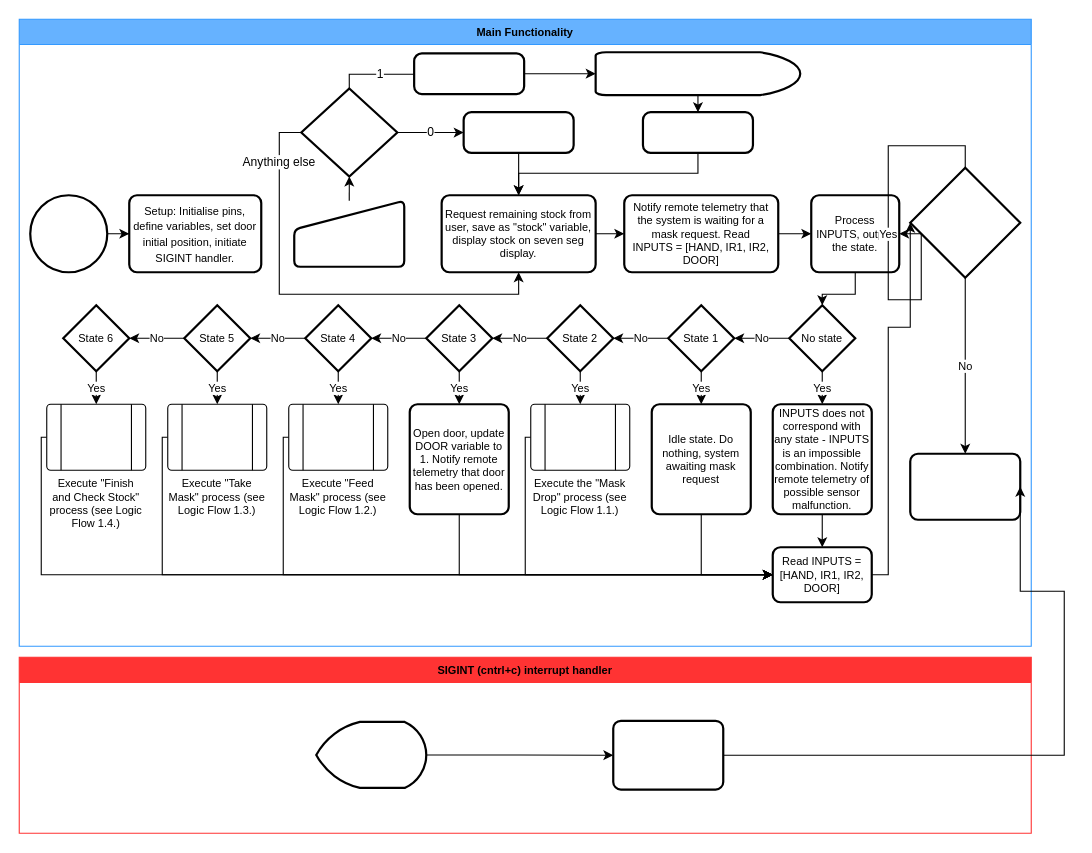
This 1092x853 diagram has some shape labels left out. Here are the shapes that lost their labels. From the top down, the centre of each, then its label:
(469,73): Detach stepper
(697,73): Wait for permisision to proceed
(349,132): User input?
(518,132): Home stepper
(697,132): Attach stepper
(68,233): Start
(349,233): Ask user for setup option.
(965,222): "running" flag still active?
(965,486): Terminate process, threads, and pigpio safely, then exit
(371,754): Notify telemetry of SIGINT
(668,754): Terminate safely
